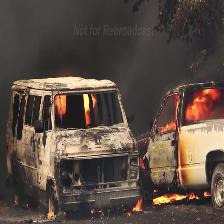fire: (45, 85, 115, 134), (160, 90, 224, 130)
smoke: (1, 2, 224, 83)
